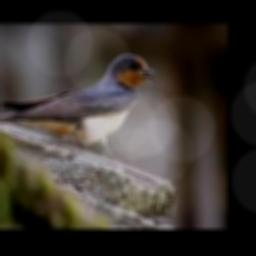Swallow: (0, 55, 156, 160)
